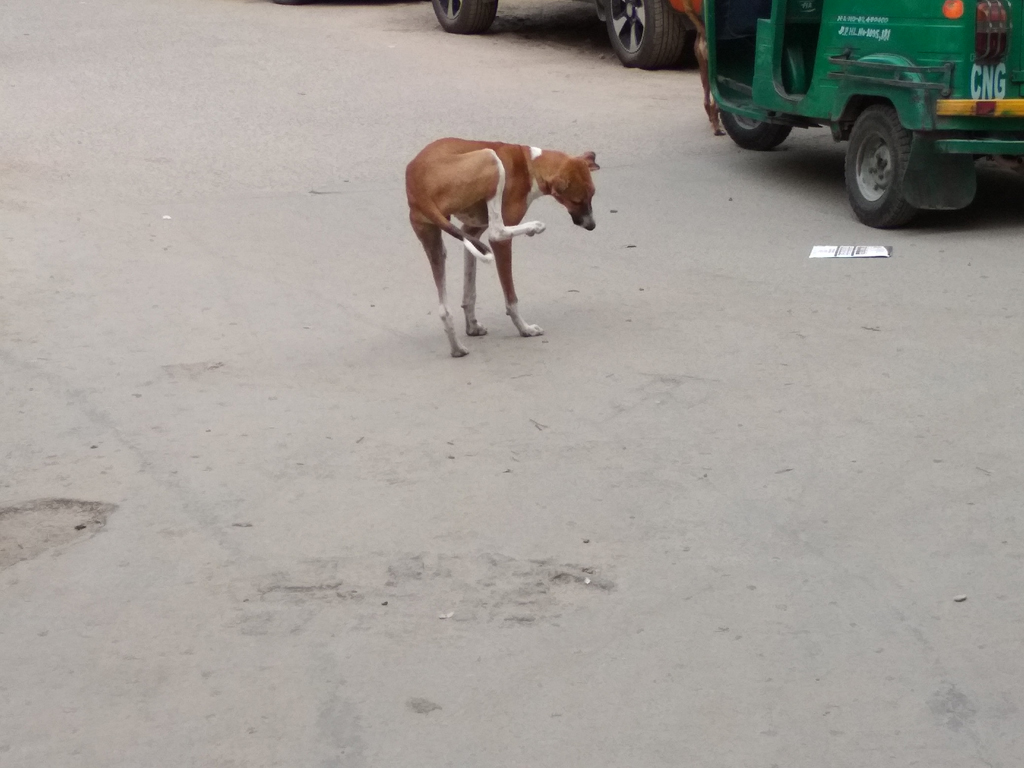dog: (403, 137, 600, 357)
